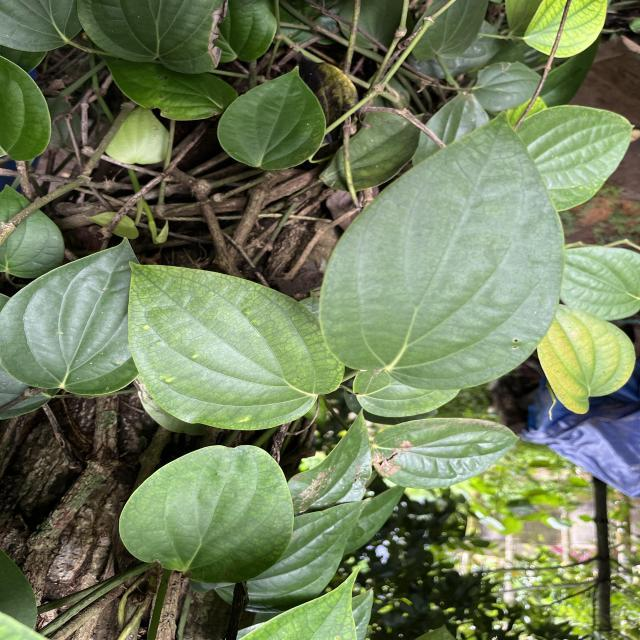Piper nigrum: (316, 108, 568, 393), (123, 259, 347, 434), (117, 442, 296, 586), (0, 236, 141, 397), (215, 64, 328, 172)
